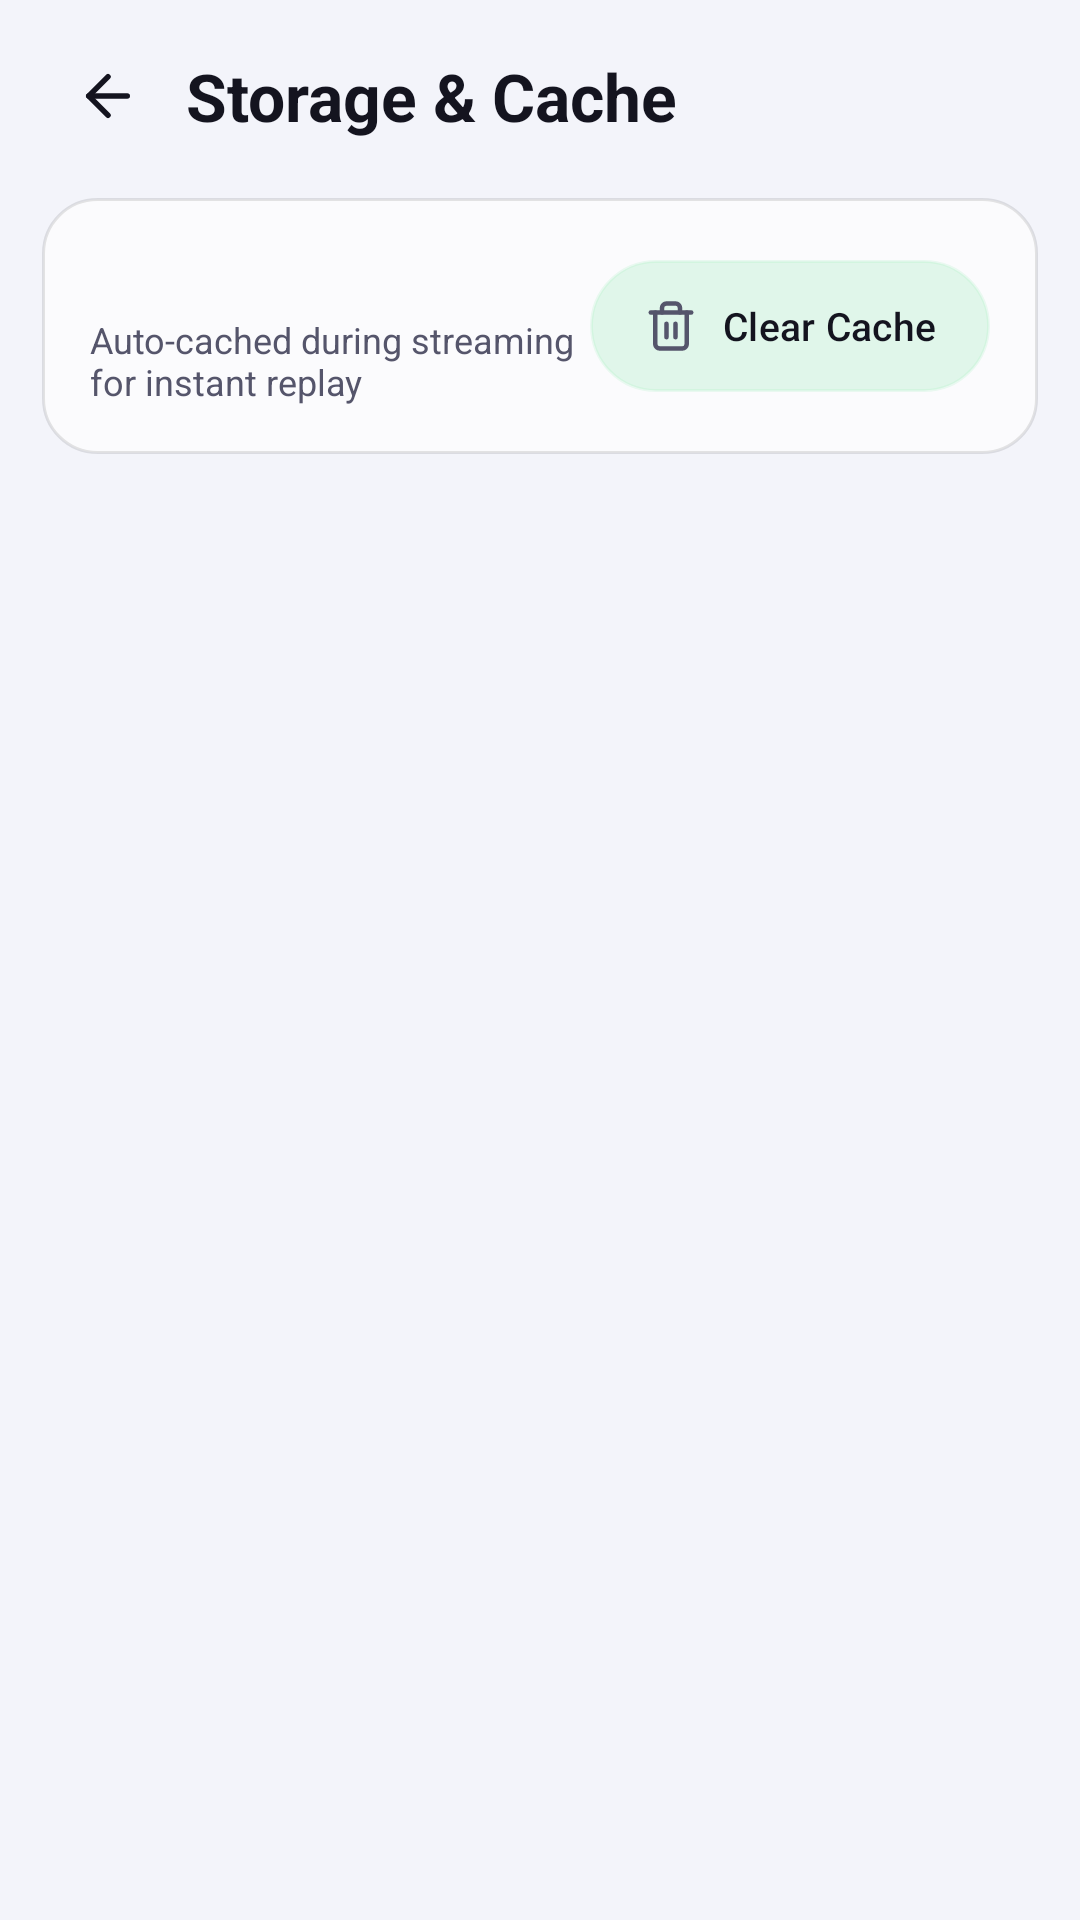

Locate icon controls on the screen. Image size 1080 × 1920, boxes as (x1, y1, x2, y2).
arrow back: (86, 74, 130, 118)
